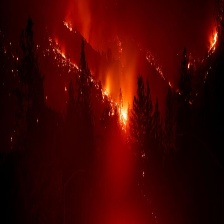fire: (51, 40, 85, 72), (101, 87, 128, 123), (208, 29, 219, 51), (62, 21, 75, 31)
smoke: (81, 137, 156, 224), (90, 8, 143, 85)
